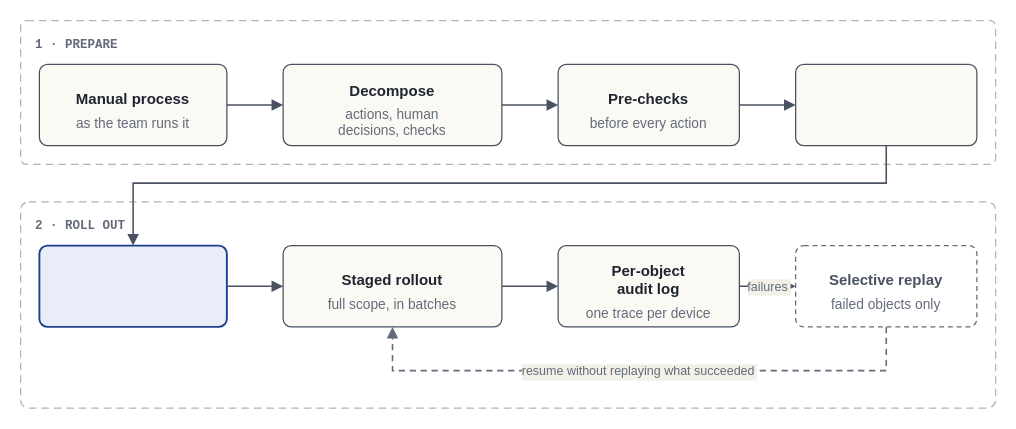
The diagram is 1016 pixels wide and 429 high, and some of its shapes have lost their labels. The centre of each missing label's shape, as x and y in pixels:
"Sample run" belongs at pixel 885 104.
"User validation" belongs at pixel 132 285.
